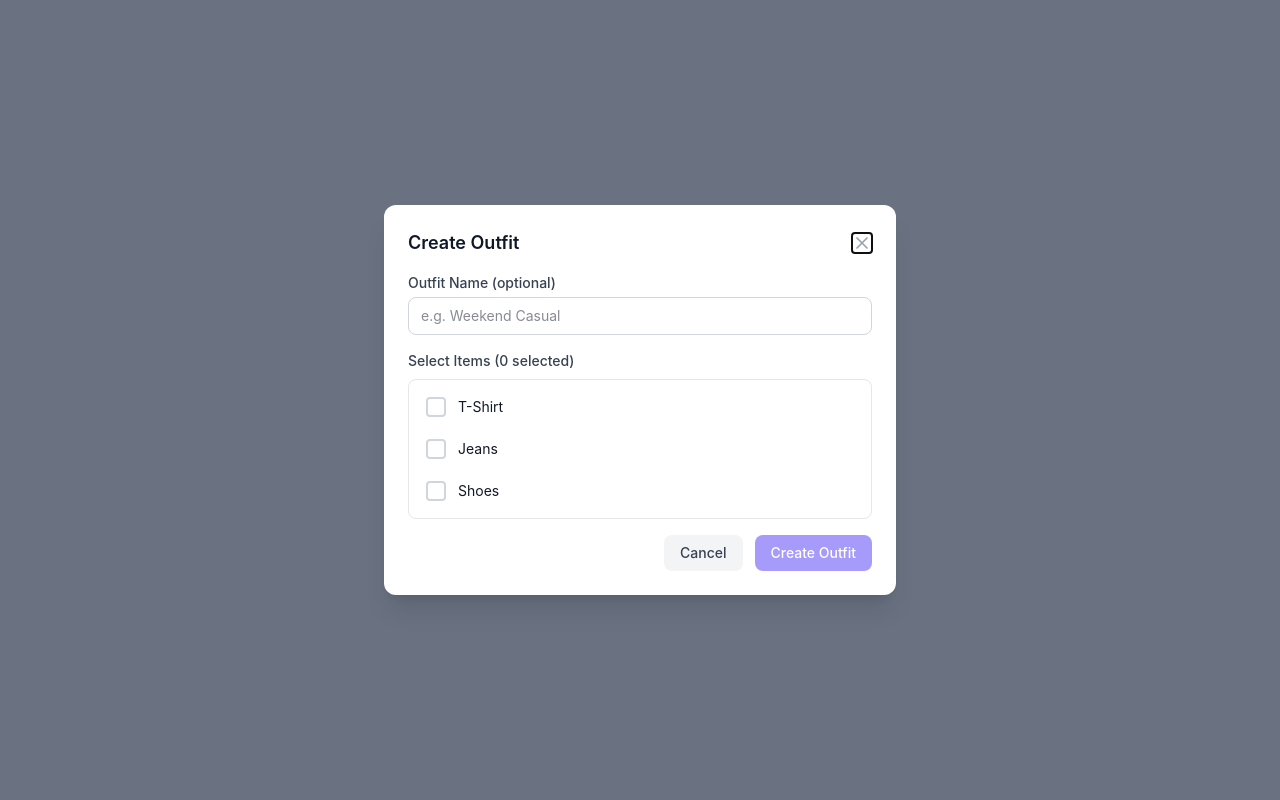
Test case: CreateOutfitModal › toggles item selection on click
This screenshot has width=1280, height=800.
Click the button "T-Shirt".
click(481, 406)  # box [417,388,863,426]
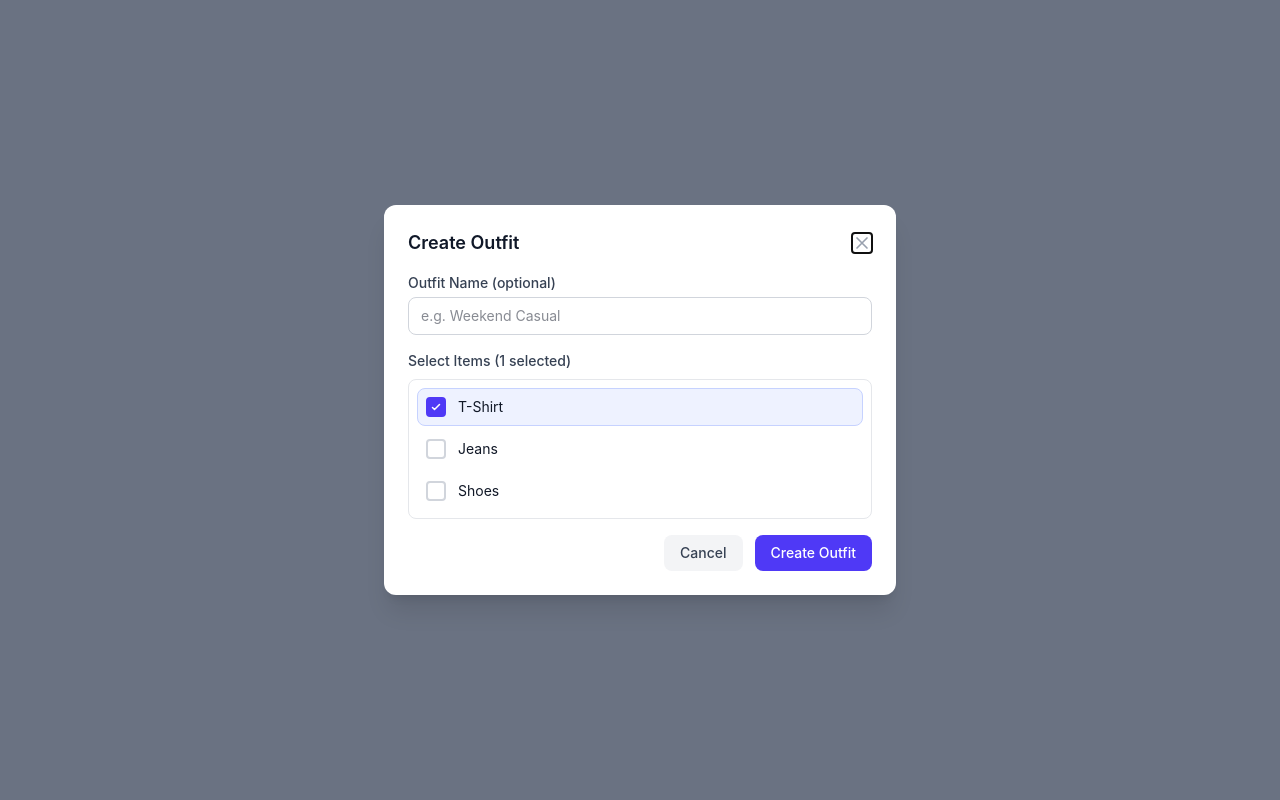
Now the text "Select Items (1 selected)" is shown, box [408,352,571,369]
// Click again to deselect
Click the button "T-Shirt".
click(481, 406)  # box [417,388,863,426]
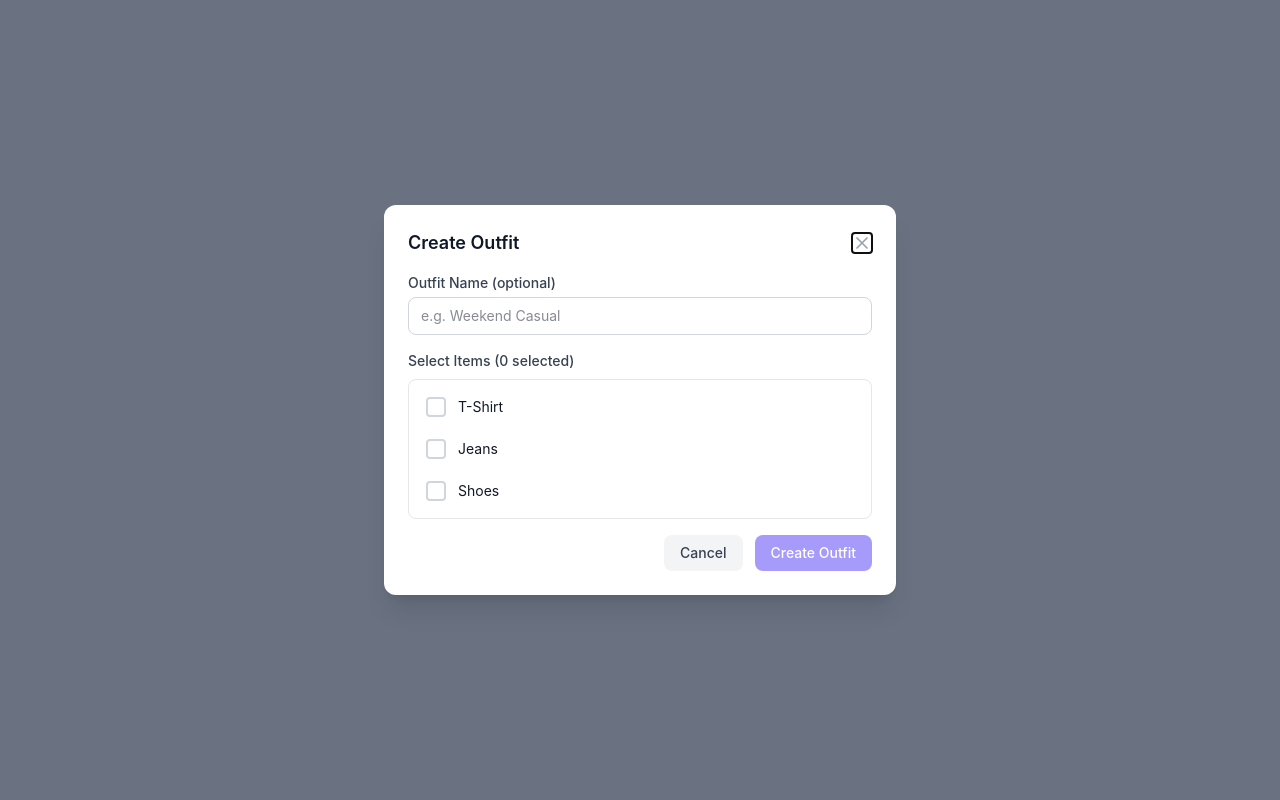
Now the text "Select Items (0 selected)" is shown, box [408,352,574,369]
